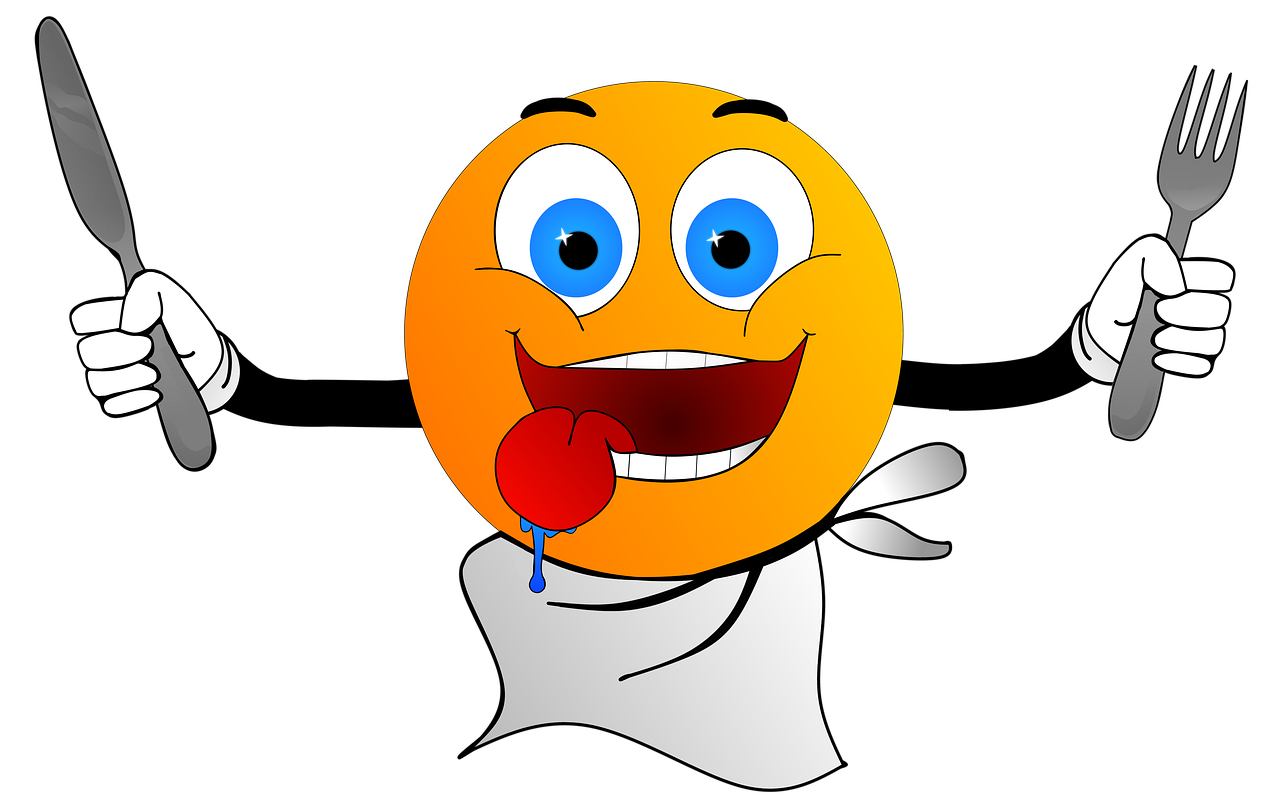knife: (16, 14, 226, 476)
